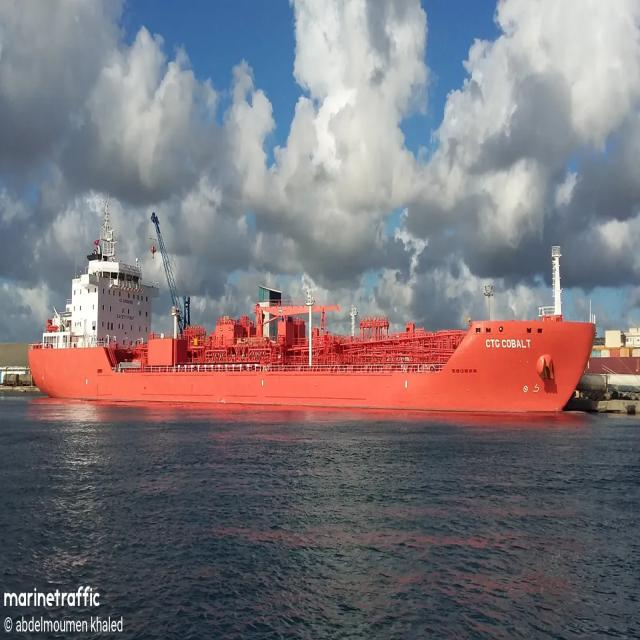Tanker: (29, 200, 594, 412)
